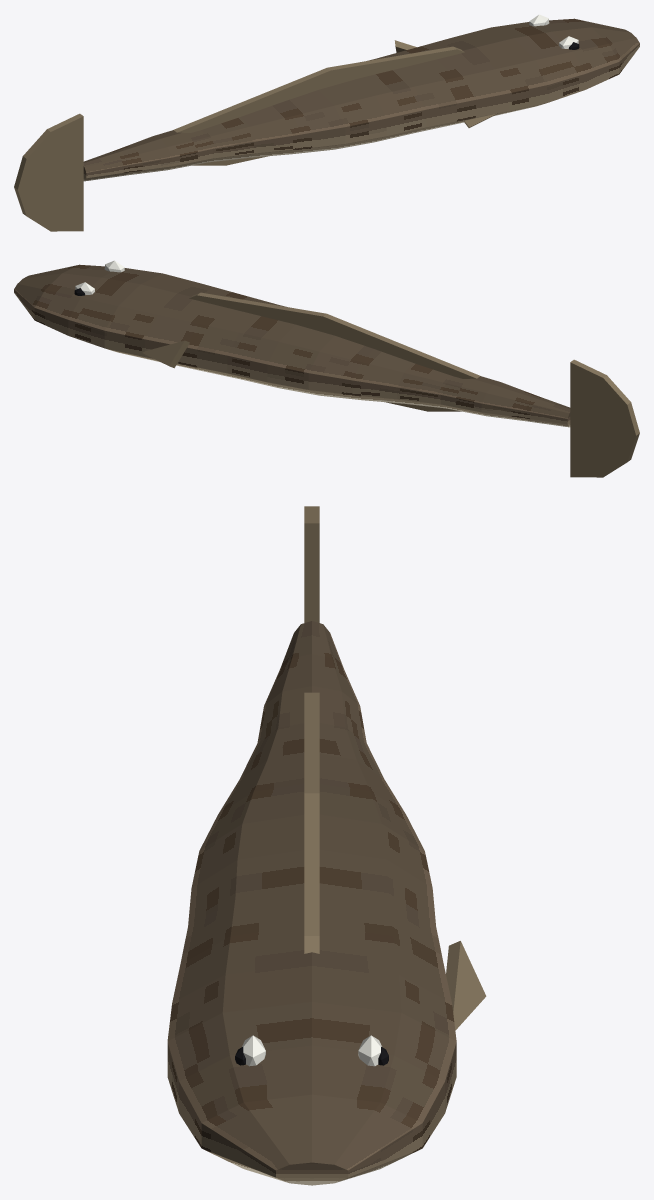
File: dusky_flathead.glb
3 renders of one model, top to bottom at view 1: azimuth 30°, elevation 25°; view 2: azimuth 150°, elevation 25°; view 3: azimuth 270°, elevation 25°, orthographic. The views are drawn at different scales.
Visible parts, largest first — view 1: fish_dusky_flathead; view 2: fish_dusky_flathead; view 3: fish_dusky_flathead.
Part boxes in pixels (box(x1,y1,x2,y2)): fish_dusky_flathead: box(14, 14, 639, 231); fish_dusky_flathead: box(14, 260, 639, 477); fish_dusky_flathead: box(167, 506, 486, 1185).
Bounding box in the file's own units: 1.12 × 0.2 × 0.2515.
4 materials, 1 textured.
